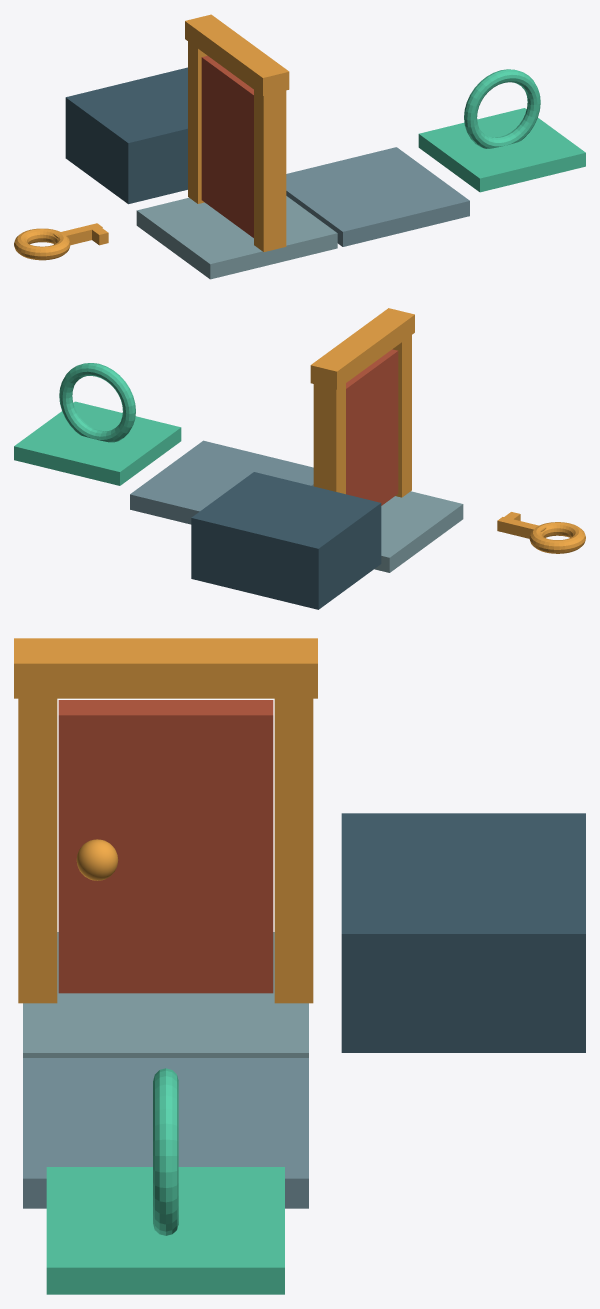
Rendered from key-door-kit.glb.
The picture shows the model from 3 angles, top to bottom: view 1: azimuth 30°, elevation 25°; view 2: azimuth 150°, elevation 25°; view 3: azimuth 270°, elevation 25°; orthographic projection. The views are drawn at different scales.
Visible parts, largest first — view 1: Wall 0, Floor 1 0, Floor 0 0, Door panel, Goal tile, Door jamb, Door lintel, Goal marker, Door jamb.001, Key bow, Key shaft; view 2: Wall 0, Goal tile, Door panel, Floor 1 0, Floor 0 0, Door lintel, Door jamb.001, Goal marker, Door jamb, Key bow, Key shaft; view 3: Door panel, Wall 0, Floor 1 0, Goal tile, Door lintel, Floor 0 0, Door jamb, Door jamb.001, Goal marker, Door handle.
Boxes of the visible parts, <box> form: Wall 0: <box>65,67,187,204</box>; Floor 1 0: <box>286,147,469,246</box>; Floor 0 0: <box>136,196,337,279</box>; Door panel: <box>201,55,253,237</box>; Goal tile: <box>418,108,585,192</box>; Door jamb: <box>254,90,286,251</box>; Door lintel: <box>185,14,289,95</box>; Goal marker: <box>464,69,540,148</box>; Door jamb.001: <box>188,41,207,203</box>; Key bow: <box>14,228,70,260</box>; Key shaft: <box>53,223,102,244</box>; Wall 0: <box>191,472,381,609</box>; Goal tile: <box>14,401,181,485</box>; Door panel: <box>346,349,398,505</box>; Floor 1 0: <box>130,440,313,524</box>; Floor 0 0: <box>374,491,463,572</box>; Door lintel: <box>310,308,414,389</box>; Door jamb.001: <box>313,383,345,494</box>; Goal marker: <box>59,363,135,442</box>; Door jamb: <box>392,335,411,497</box>; Key bow: <box>529,522,585,553</box>; Key shaft: <box>497,517,546,538</box>; Door panel: <box>58,700,273,993</box>; Wall 0: <box>341,813,585,1052</box>; Floor 1 0: <box>23,1058,308,1208</box>; Goal tile: <box>46,1167,284,1294</box>; Door lintel: <box>14,638,317,698</box>; Floor 0 0: <box>23,932,308,1057</box>; Door jamb: <box>18,698,57,1003</box>; Door jamb.001: <box>274,698,313,1003</box>; Goal marker: <box>153,1068,178,1235</box>; Door handle: <box>76,839,118,880</box>.
Bounding box in the file's own units: 4.06 × 1.38 × 1.92.
